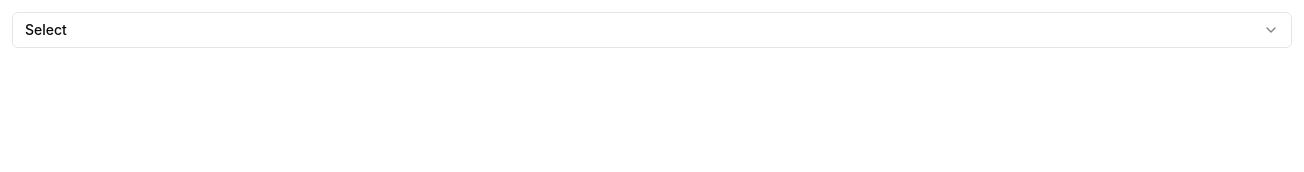
Scenario: Select Component › should render select options
Click the dropdown at (46, 30), box [12, 12, 1292, 48]
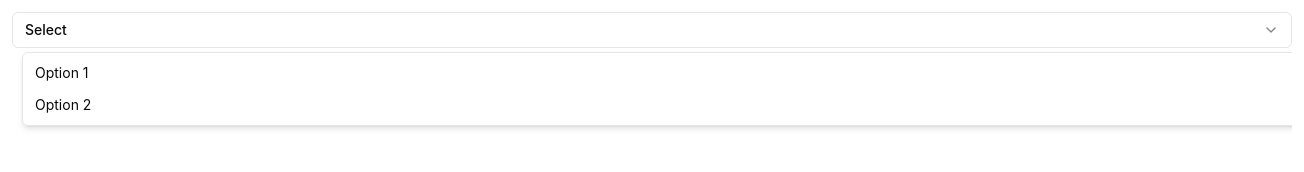
Expected: the text "Option 1" is shown, [35, 63, 88, 83]
Expected: the text "Option 2" is shown, [35, 95, 91, 115]
